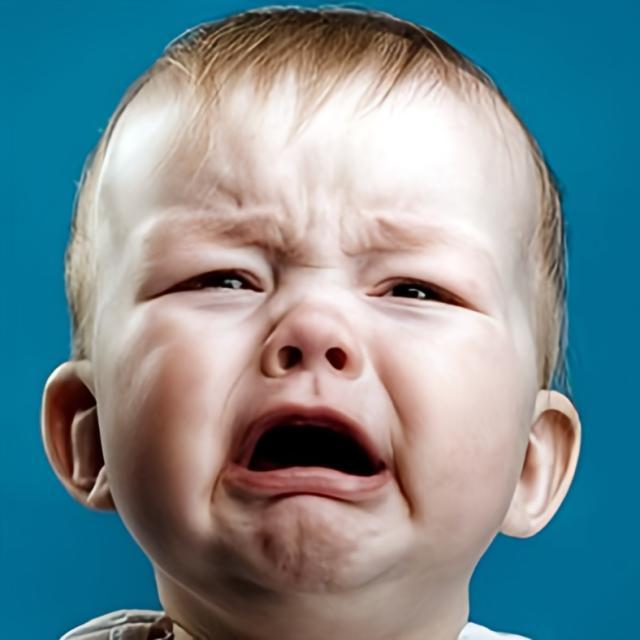sad: (102, 61, 530, 608)
